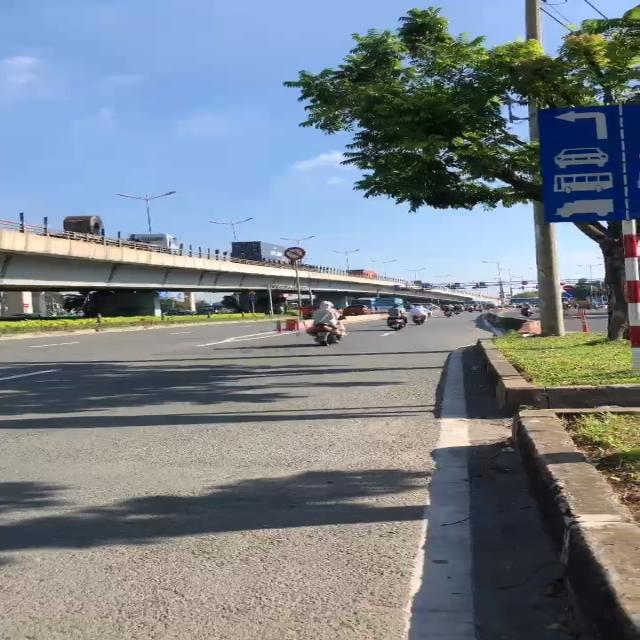Bien bao cam xe may: (280, 246, 315, 262)
